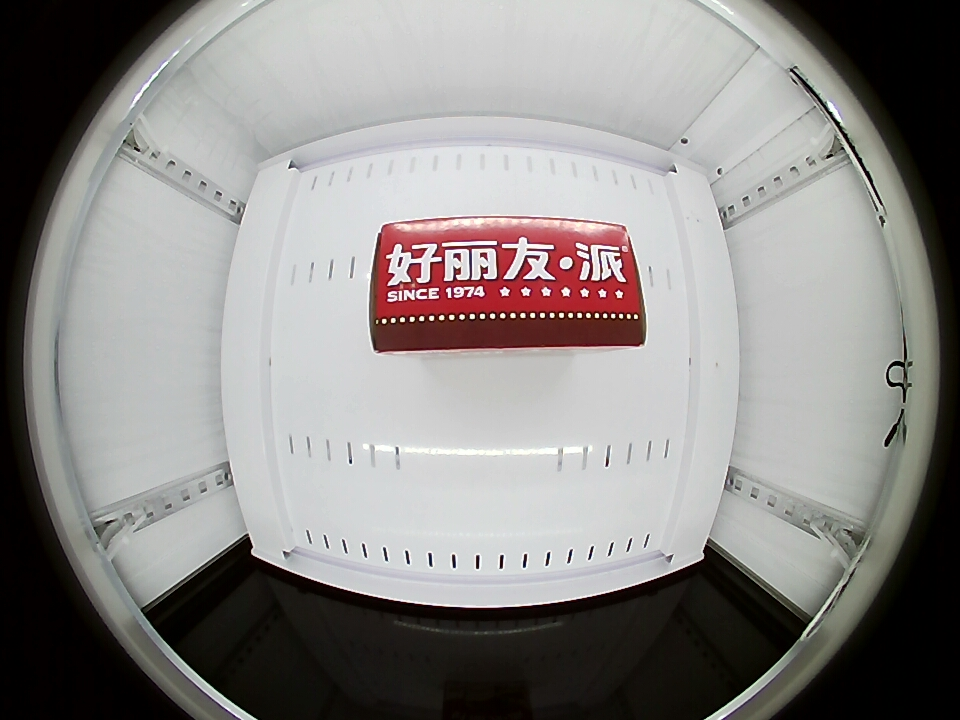haoliyou: (367, 216, 646, 353)
